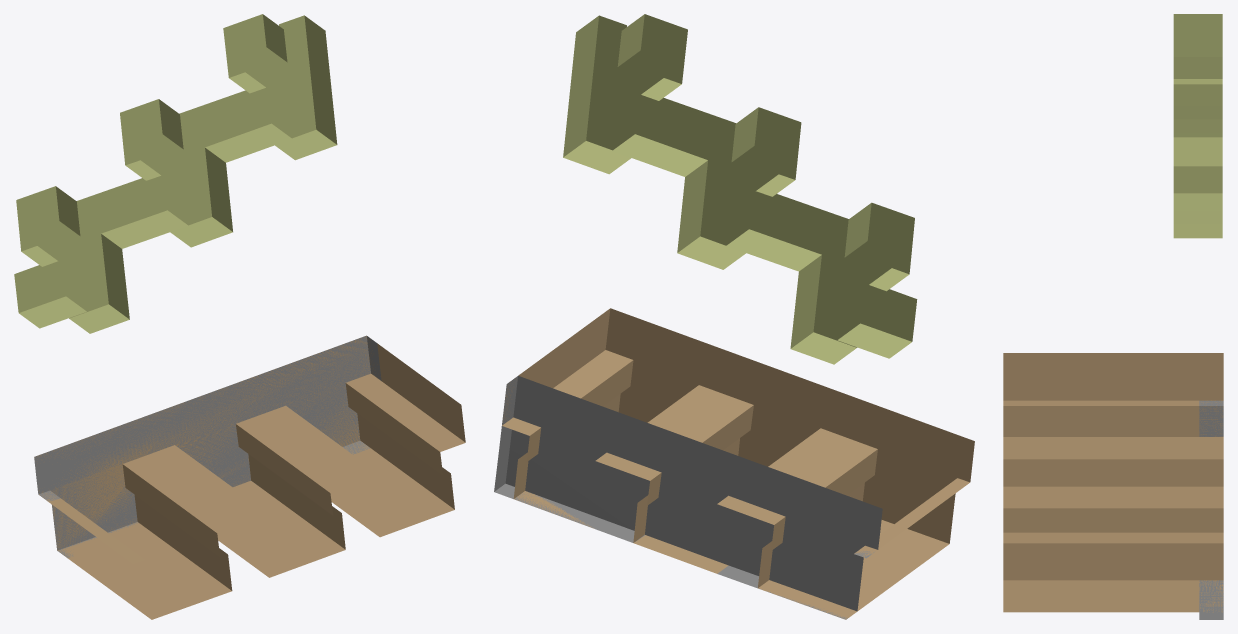
3 views of the same model, side by side, from view 1: azimuth 30°, elevation 25°; view 2: azimuth 150°, elevation 25°; view 3: azimuth 270°, elevation 25° (orthographic). The views are drawn at different scales.
Parts seen in each view (by area): view 1: 0_1_3_2; view 2: 0_1_3_2; view 3: 0_1_3_2.
Boxes of the visible parts, x1,y1,x2,y2 form: 0_1_3_2: (14,14,465,619); 0_1_3_2: (494,14,974,619); 0_1_3_2: (1003,14,1223,619).
Size of the model in its own units: 60.04 by 76.64 by 27.
